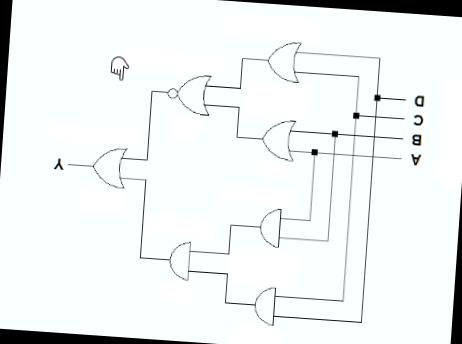and: (250, 197, 288, 251), (160, 234, 199, 285), (245, 278, 280, 330)
nor: (162, 59, 220, 120)
or: (255, 108, 300, 166), (260, 32, 304, 88)
